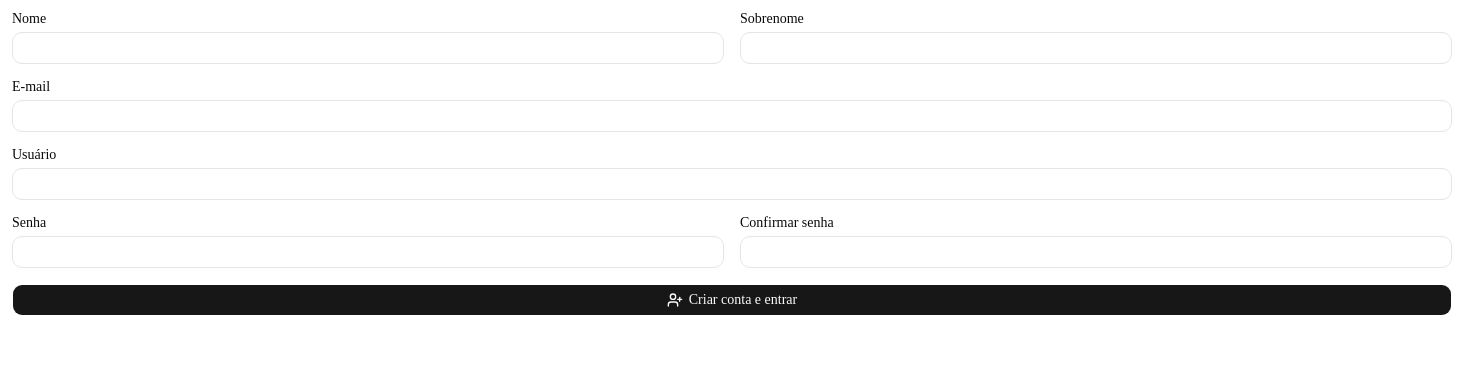
Test: FormularioCadastro › deve exibir o detalhe do ProblemDetail quando a API recusar
Type "Carla" into the field labelled "Nome" at point(368, 48), box [12,32,724,64]
Type "Dias" into the field labelled "Sobrenome" at point(1096, 48), box [740,32,1452,64]
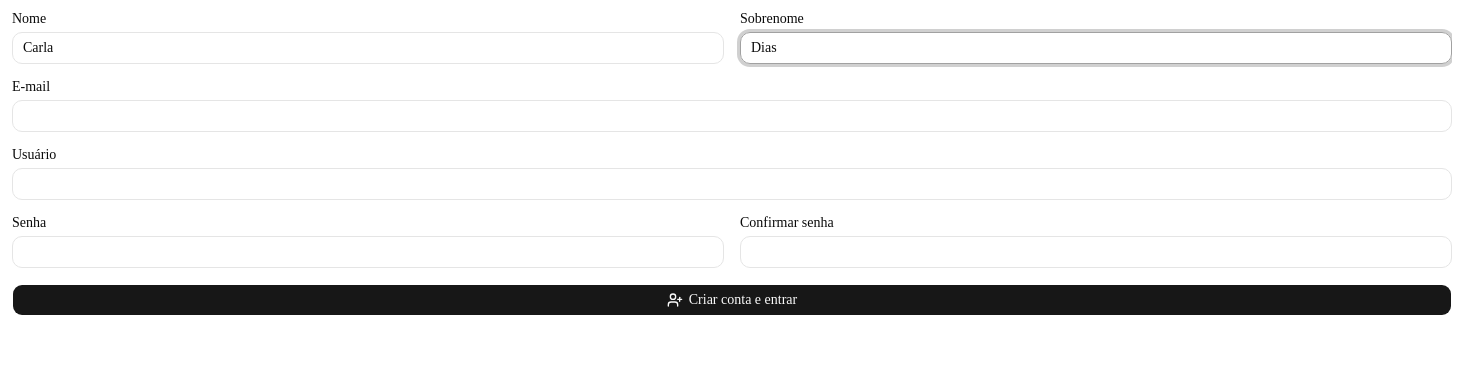
Type "carla@exemplo.com.br" into the field labelled "E-mail" at point(732, 116), box [12,100,1452,132]
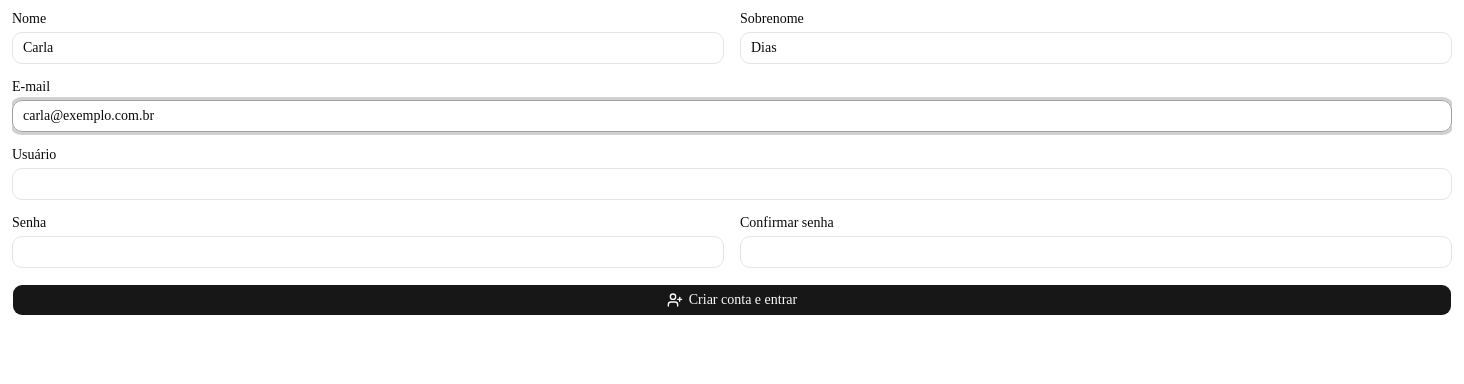
Type "carla" into the field labelled "Usuário" at point(732, 184), box [12,168,1452,200]
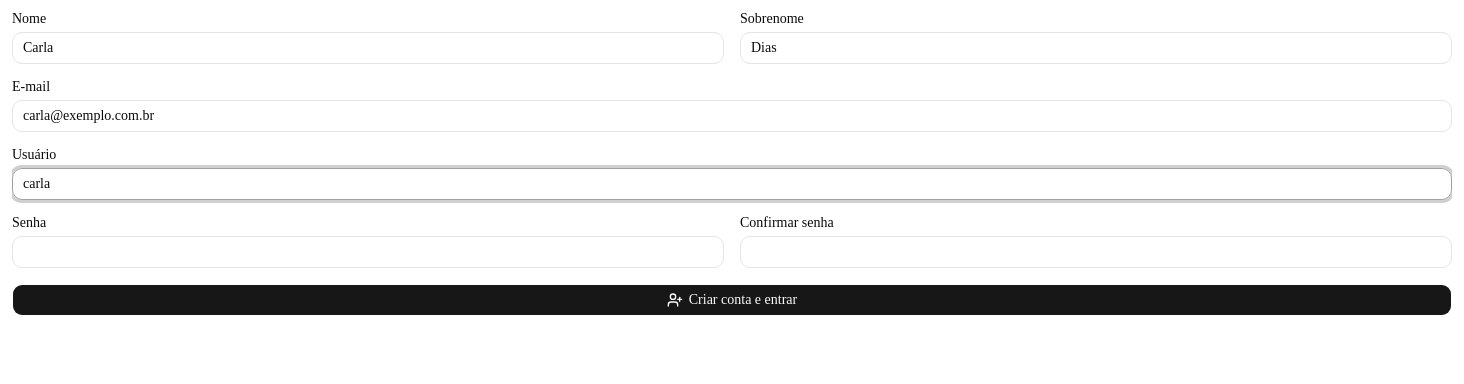
Type "segredo123" into the password field labelled "Senha" at point(368, 252), box [12,236,724,268]
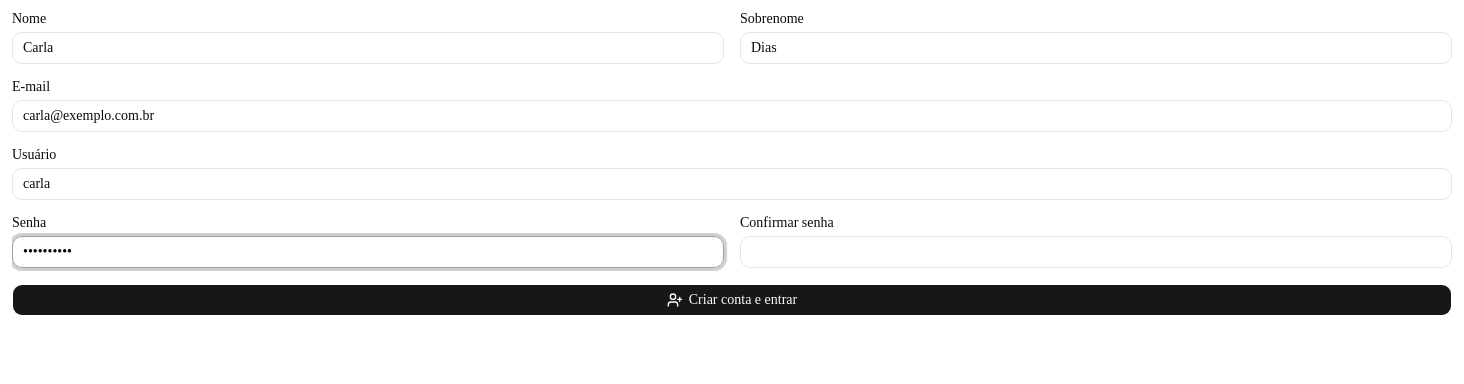
Type "segredo123" into the password field labelled "Confirmar senha" at point(1096, 252), box [740,236,1452,268]
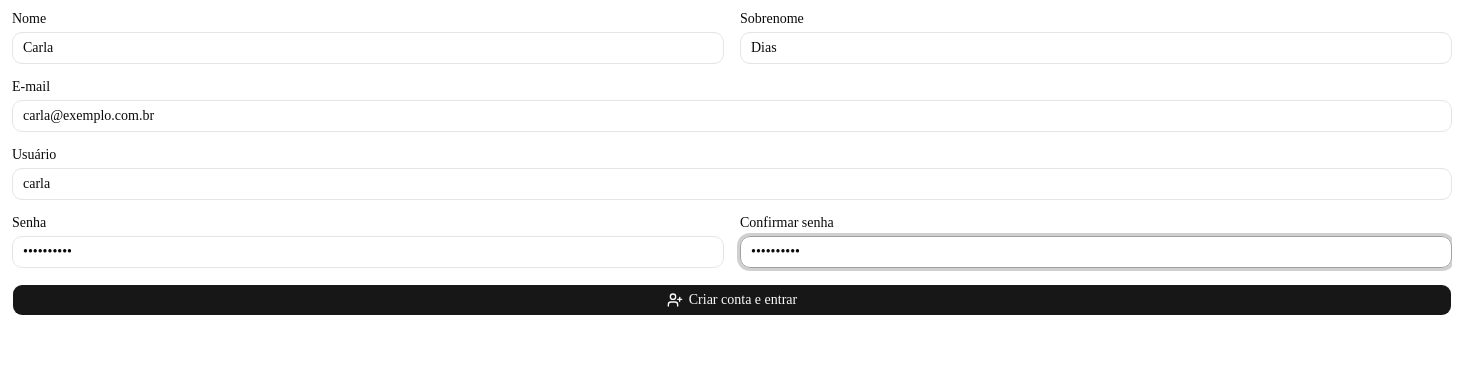
Click the button "Criar conta e entrar" at point(732, 300), box [12,284,1452,316]
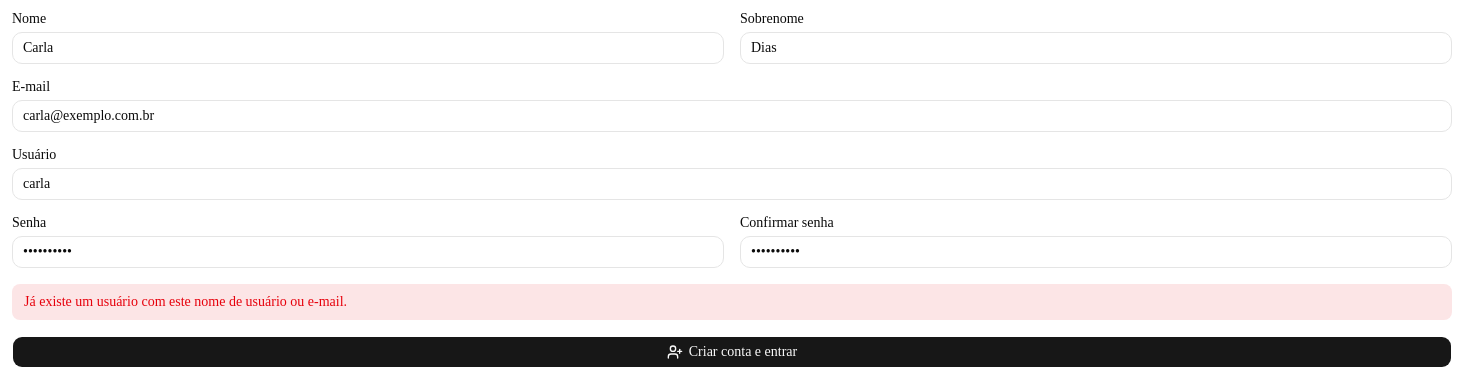
Expected: the text "Já existe um usuário com este nome de usuário ou e-mail." is shown, [12,284,1452,320]
